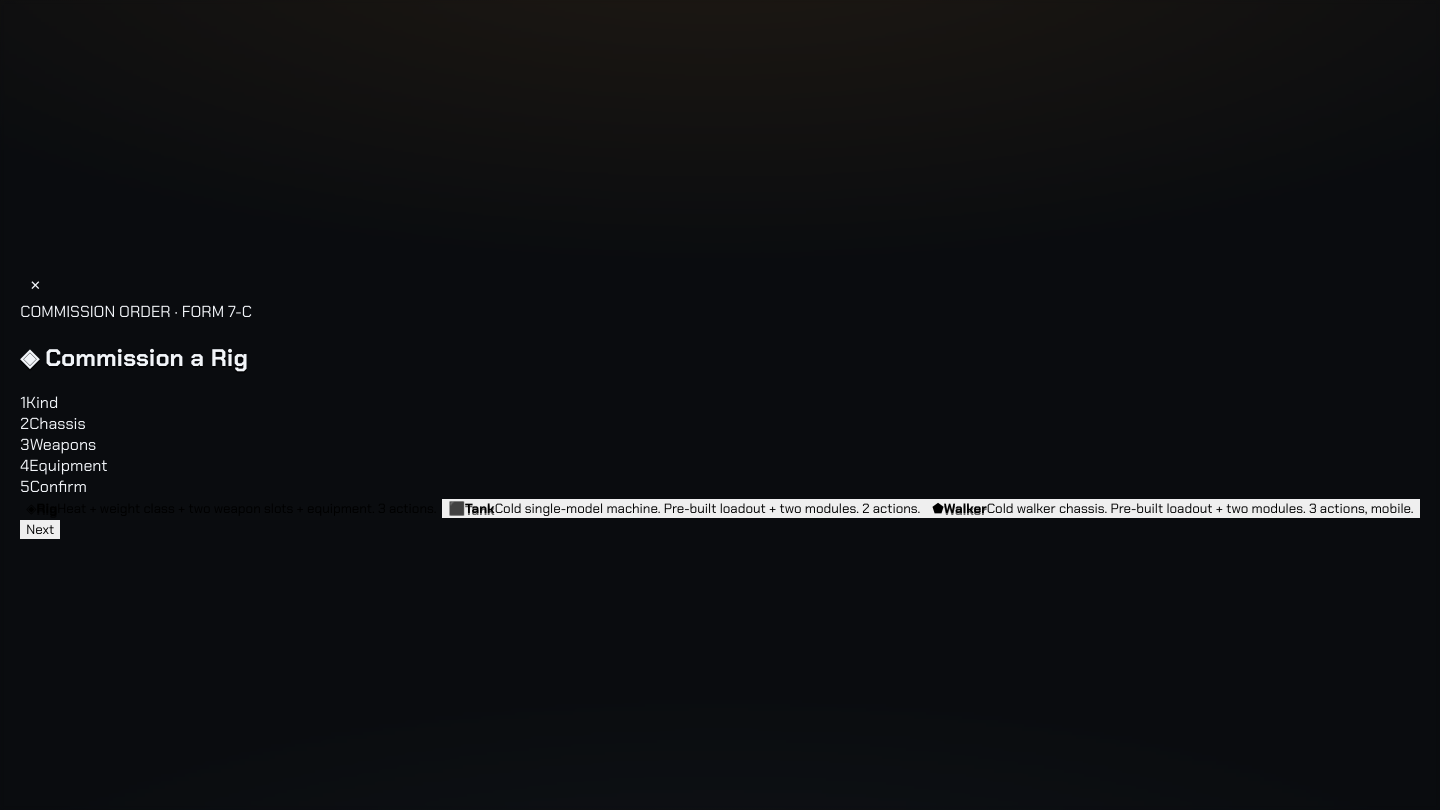
Test: choosing a Prototype on one weapon locks the other weapon's Prototype
Click the button "Next": (40, 530) [20,520,60,539]
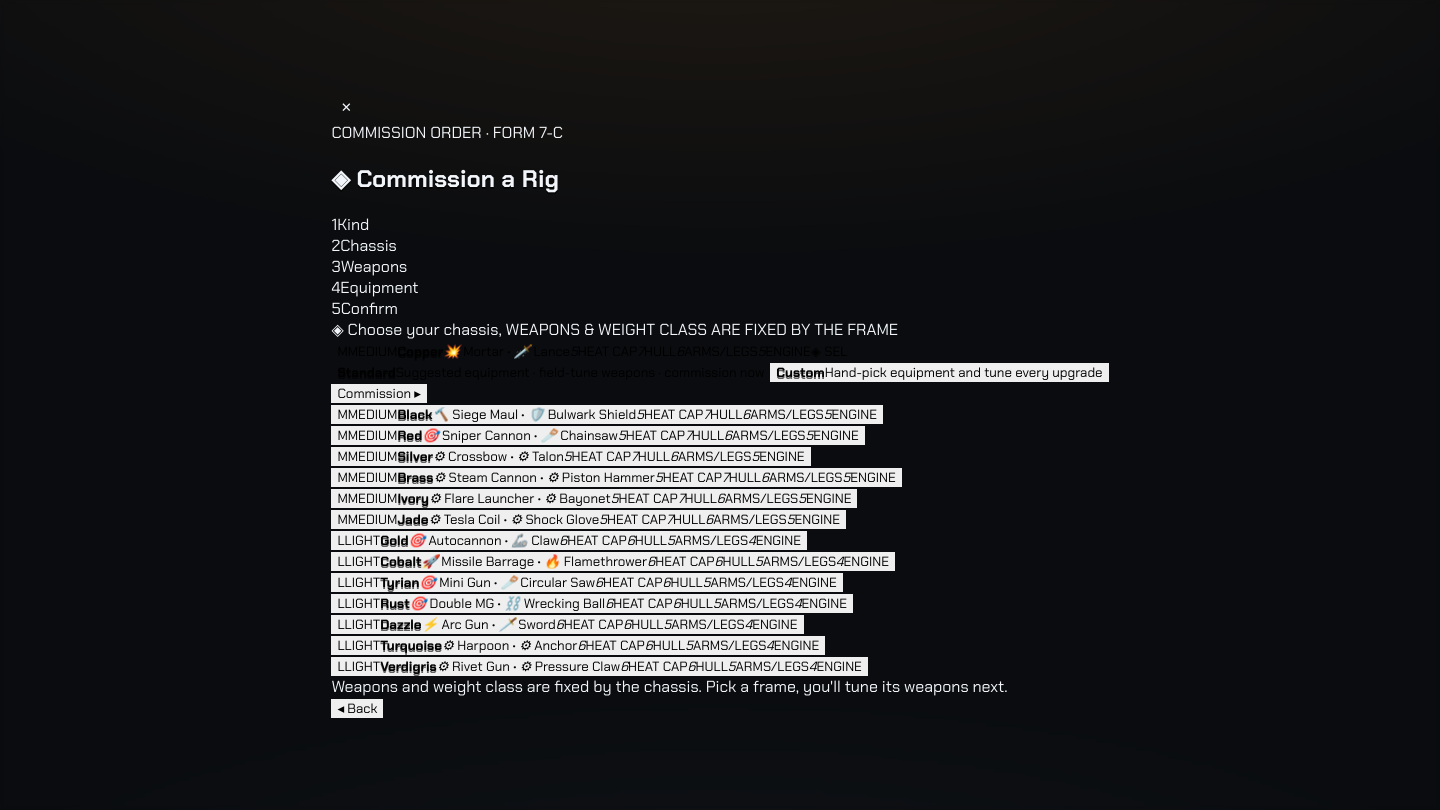
Click the radio button labelled "Custom": (939, 372) [770,363,1109,382]
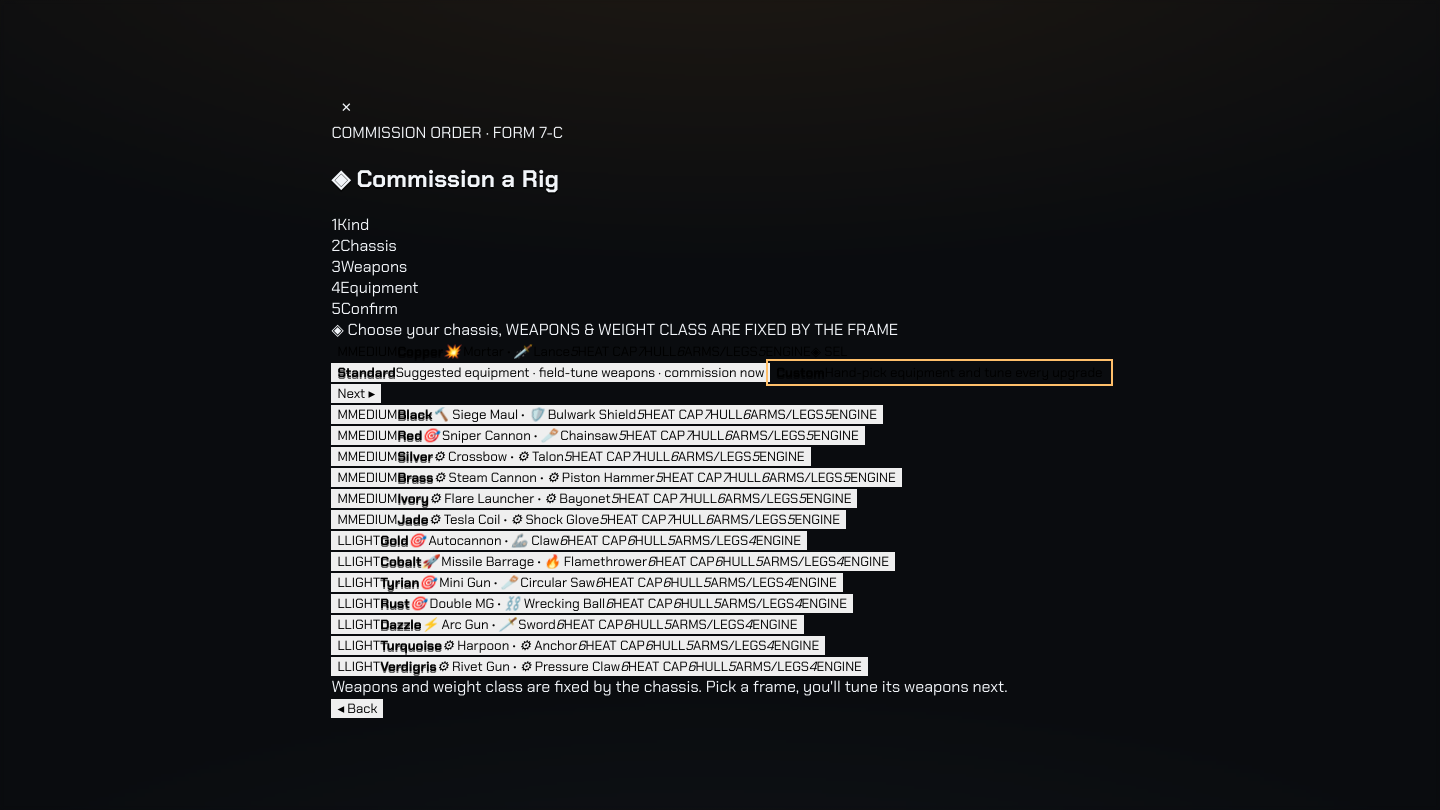
Click the button "Next ▸": (356, 393) [331,384,381,403]
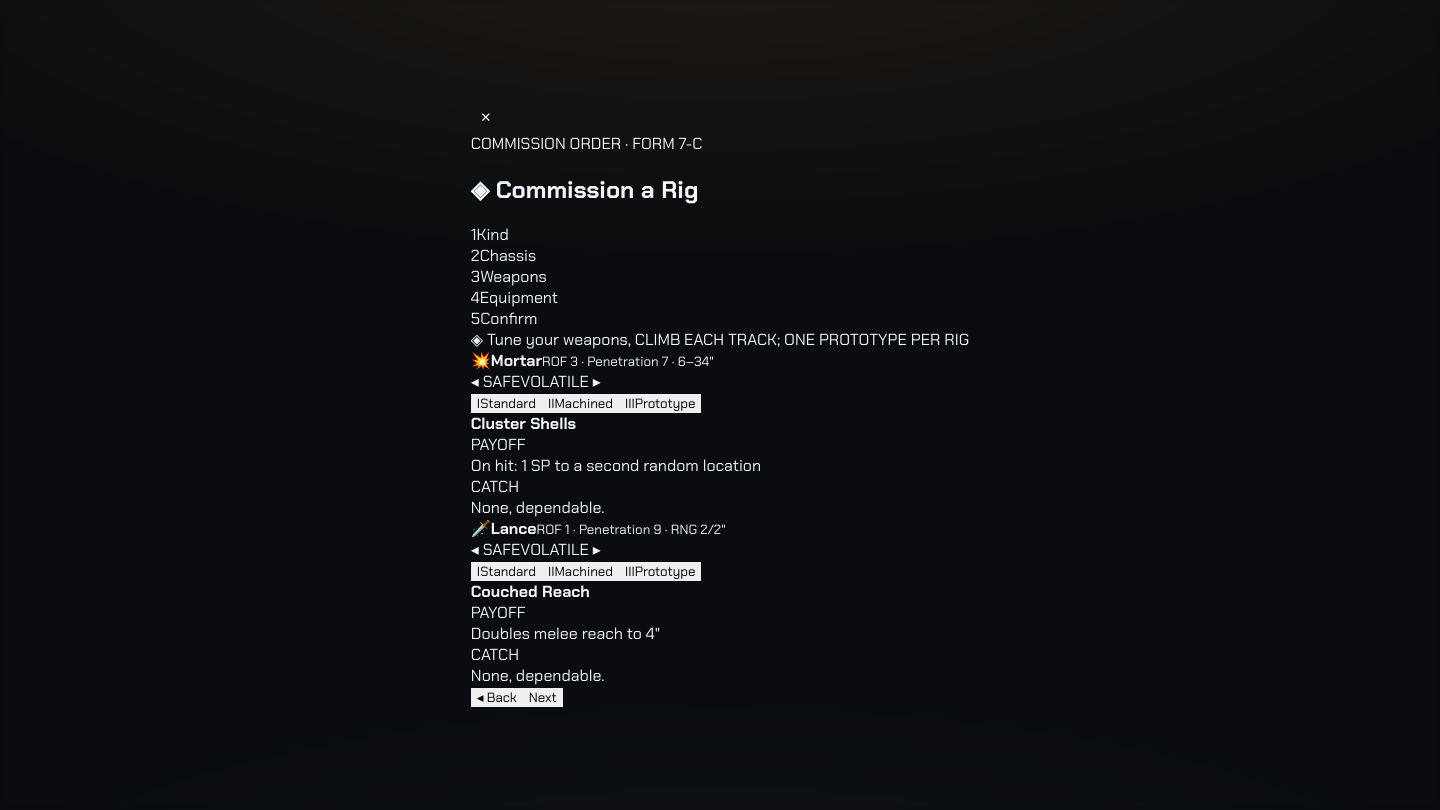
Check: the button "Prototype" below "Lance" is enabled, box [619,562,701,581]
Click the button "Prototype" below "Mortar": (660, 404) [619,394,701,413]
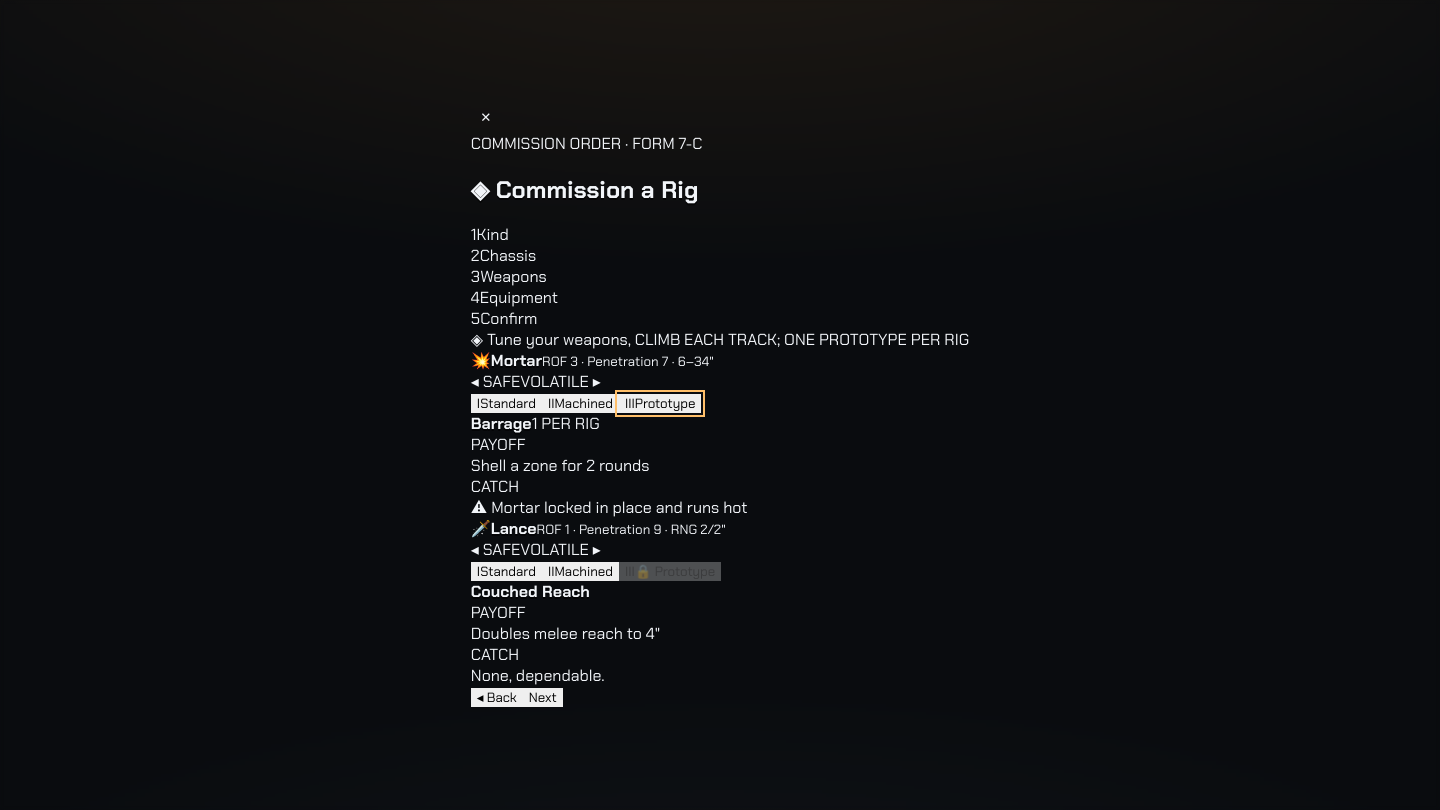
Check: the button "III🔒 Prototype" is disabled, box [619,562,721,581]
